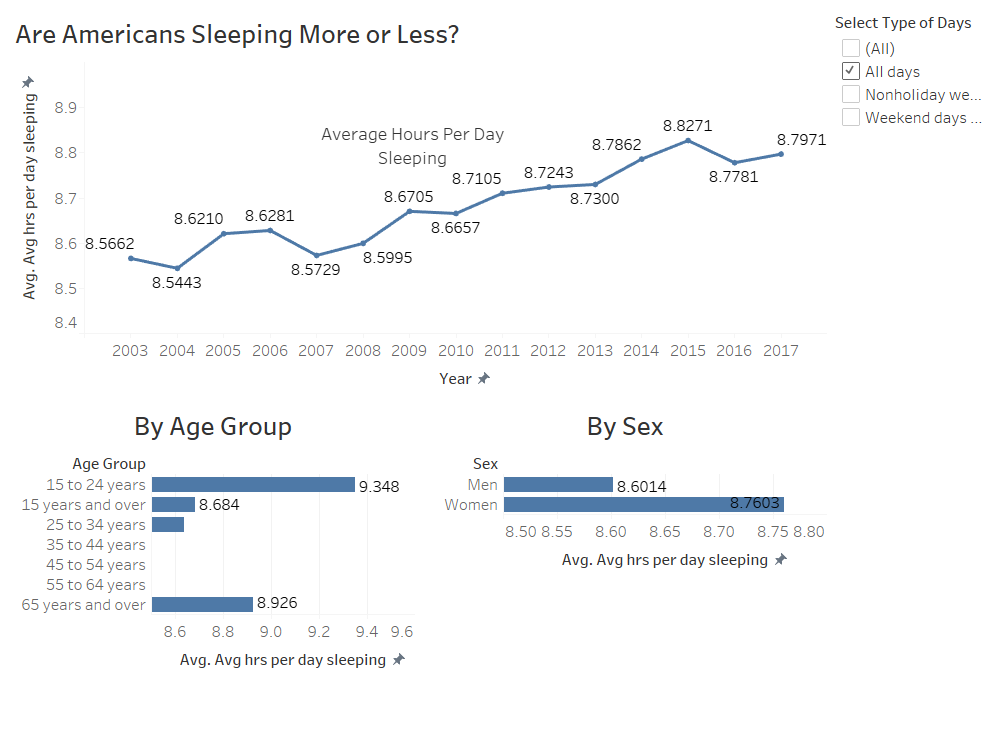

What the dashboard file says about the page in this screenshot:
{"tool":"tableau","page":{"name":"Dashboard 1","canvas":[1000,800],"ordinal":0},"visuals":[{"type":"worksheet","title":"Sheet 1","mark":"Line","rows":["Avg hrs per day sleeping"],"cols":["Year"],"box":[8,8,824,392]},{"type":"filter","title":"Sheet 1","param":"[federated.0zer70y1u7ucil1dfkjsu03tvn8d].[none:Type of Days:nk]","box":[832,8,160,128]},{"type":"worksheet","title":"Sheet 2","mark":"Automatic","rows":["Age Group"],"cols":["Avg hrs per day sleeping"],"box":[8,400,412,392]},{"type":"worksheet","title":"Sheet 3","mark":"Automatic","rows":["Sex"],"cols":["Avg hrs per day sleeping"],"box":[420,400,412,392]}]}

Visuals, with their boxes on the page's 1000x800 design canvas (x1, y1, x2, y2). These are canvas units, not pixel positions in the 996x730 screenshot, which may show the page scaled, cropped or inside an application window:
"Sheet 1" worksheet (Line marks): BBox(8, 8, 832, 400)
"Sheet 1" filter: BBox(832, 8, 992, 136)
"Sheet 2" worksheet: BBox(8, 400, 420, 792)
"Sheet 3" worksheet: BBox(420, 400, 832, 792)
